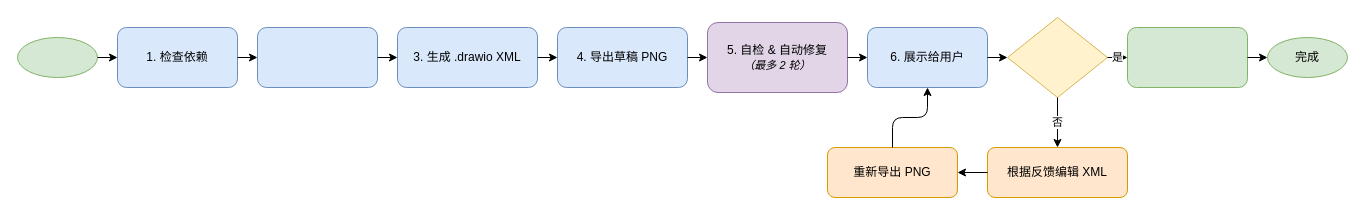
Some shapes in this 1365 by 215 pixel diagram are drawn without their labels. Here are the shapes that lost their labels. From the top down, the centre of each, then its label:
At (x=57, y=57): "开始".
At (x=317, y=57): "2. 规划图表".
At (x=1057, y=57): "满意？".
At (x=1187, y=57): "7. 最终导出".
